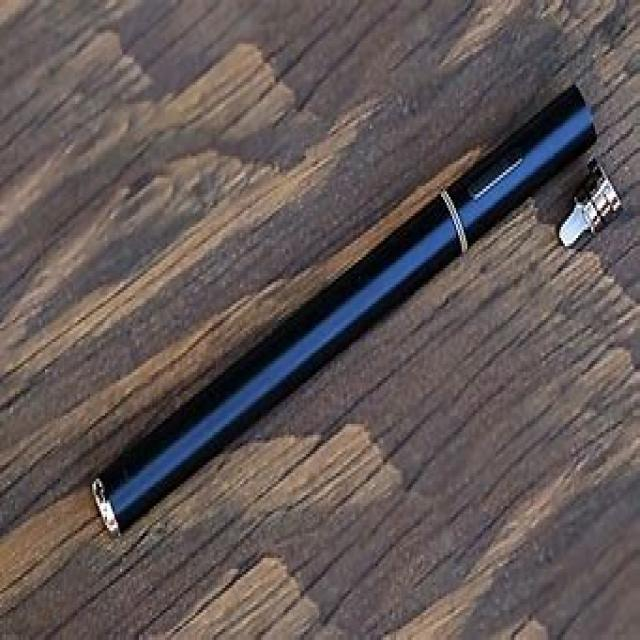pen: (91, 80, 600, 544)
